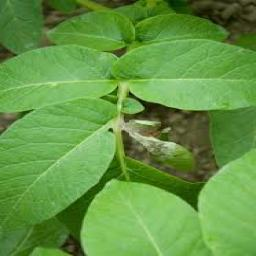Leaf: (0, 97, 119, 256), (109, 39, 256, 111), (83, 176, 214, 256), (0, 45, 121, 112)
